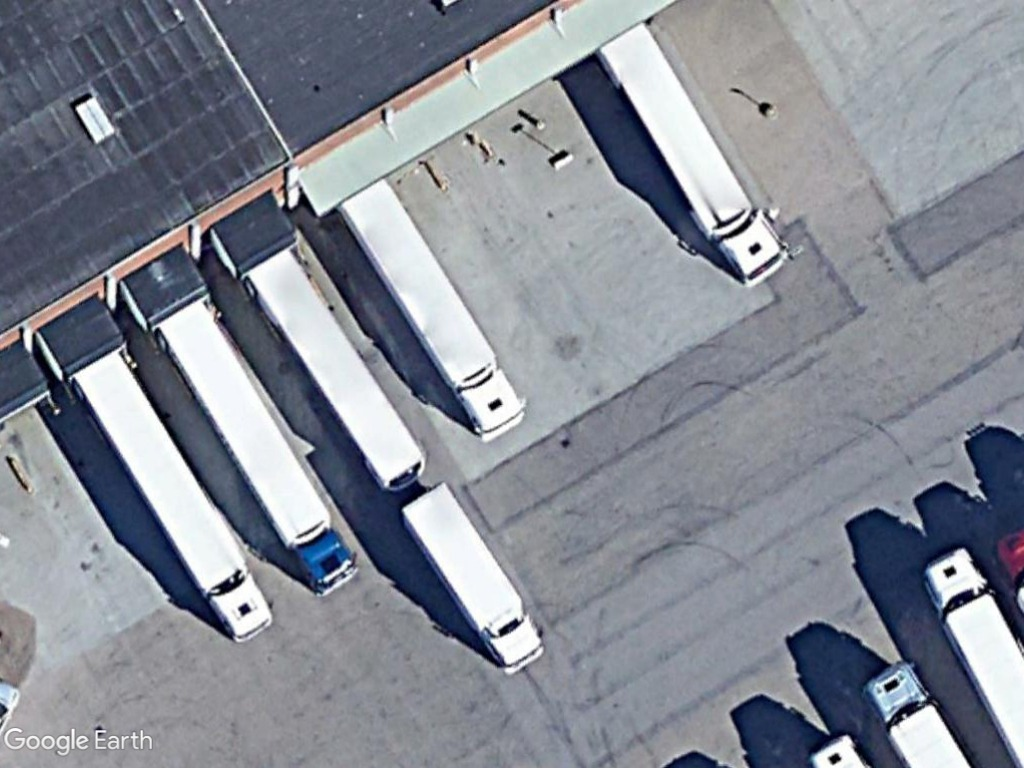longvehicle: (64, 343, 281, 653), (154, 289, 366, 599), (598, 19, 796, 293), (338, 176, 533, 448)
truck: (393, 479, 556, 680)
